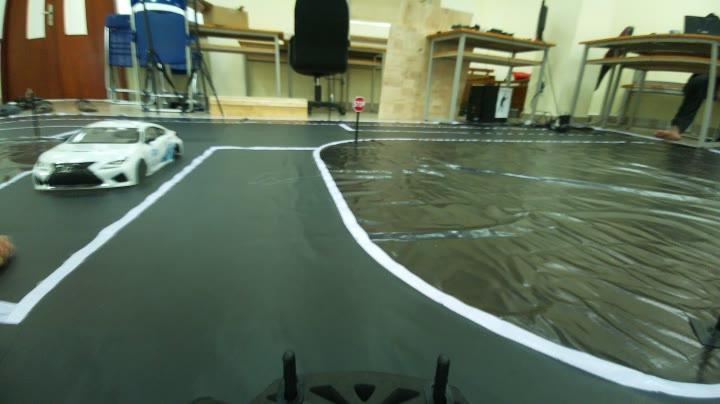car: (45, 114, 180, 198)
stop: (349, 93, 372, 115)
